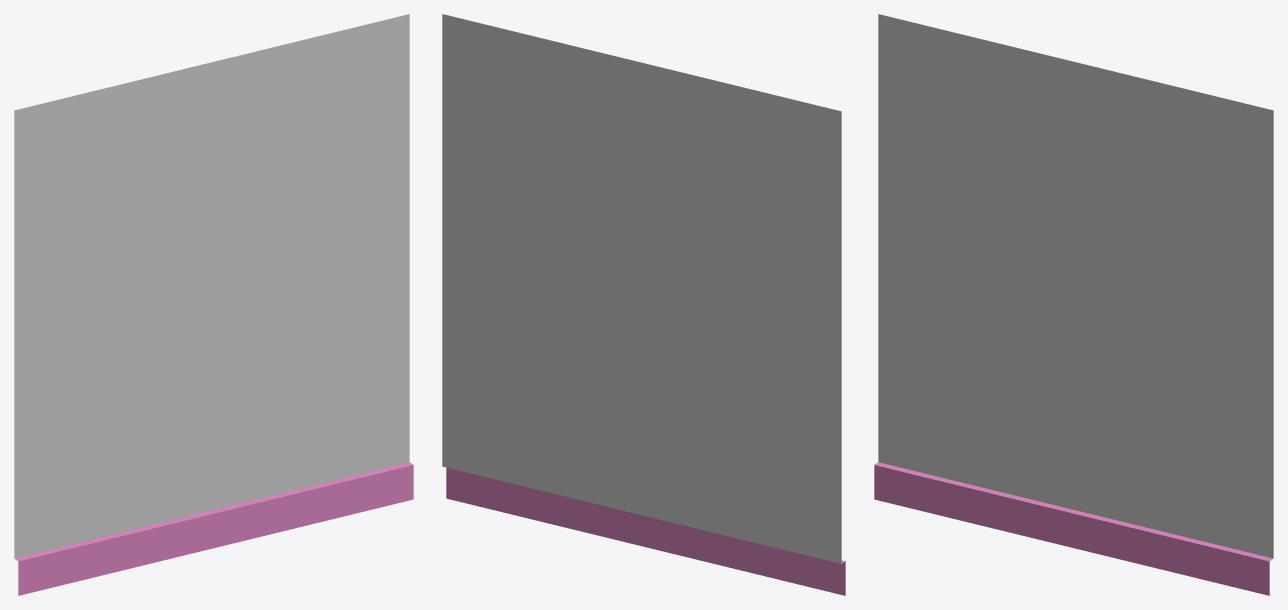
Rendered from Wall4.fbx.
3 views of the same model, side by side, from view 1: azimuth 30°, elevation 25°; view 2: azimuth 150°, elevation 25°; view 3: azimuth 330°, elevation 25° (orthographic).
Visible parts, largest first — view 1: Cube.009; view 2: Cube.009; view 3: Cube.009.
Part boxes in pixels (left/top/right/bottom): Cube.009: left=14, top=14, right=413, bottom=595; Cube.009: left=442, top=14, right=845, bottom=595; Cube.009: left=874, top=14, right=1273, bottom=595.
Size of the model in its own units: 6 by 7 by 0.1024.
